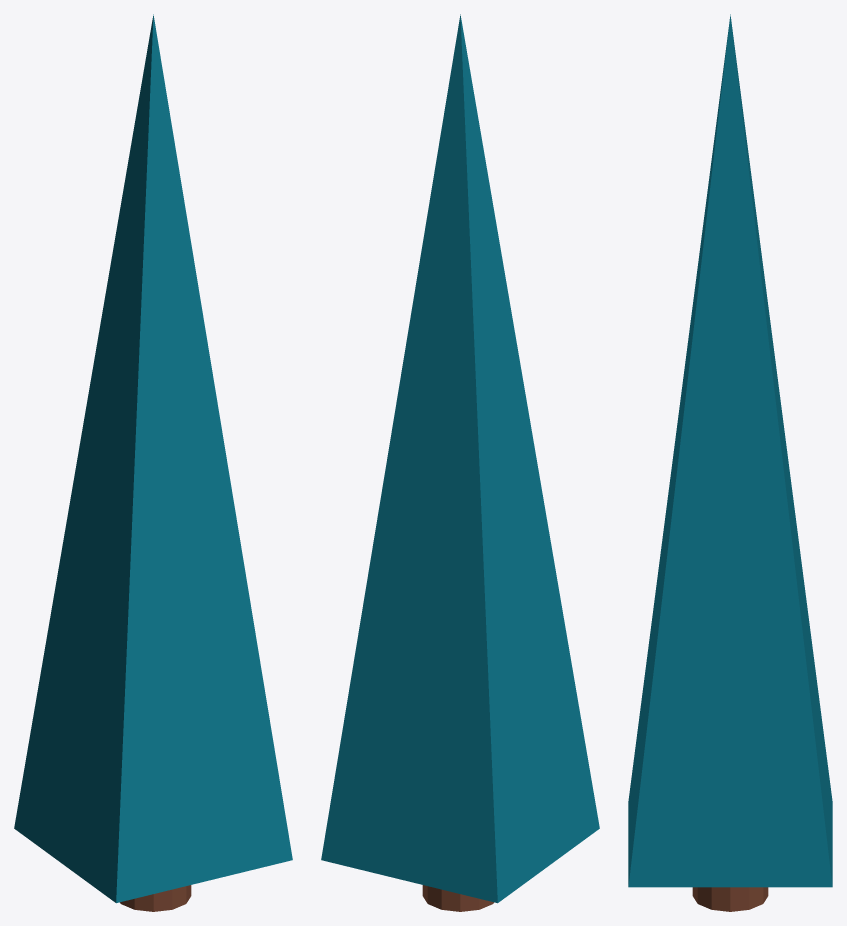
Rendered from Tree_19_summer_blue_mat.fbx.
3 renders of one model, left to right at view 1: azimuth 30°, elevation 25°; view 2: azimuth 150°, elevation 25°; view 3: azimuth 270°, elevation 25°, orthographic.
Visible parts, largest first — view 1: Tree_19_summer_blue_mat; view 2: Tree_19_summer_blue_mat; view 3: Tree_19_summer_blue_mat.
Boxes of the visible parts, left/top/right/bottom form: Tree_19_summer_blue_mat: left=14, top=14, right=292, bottom=911; Tree_19_summer_blue_mat: left=321, top=14, right=599, bottom=911; Tree_19_summer_blue_mat: left=628, top=14, right=832, bottom=911.
Bounding box in the file's own units: 59.69 × 285 × 59.69.
